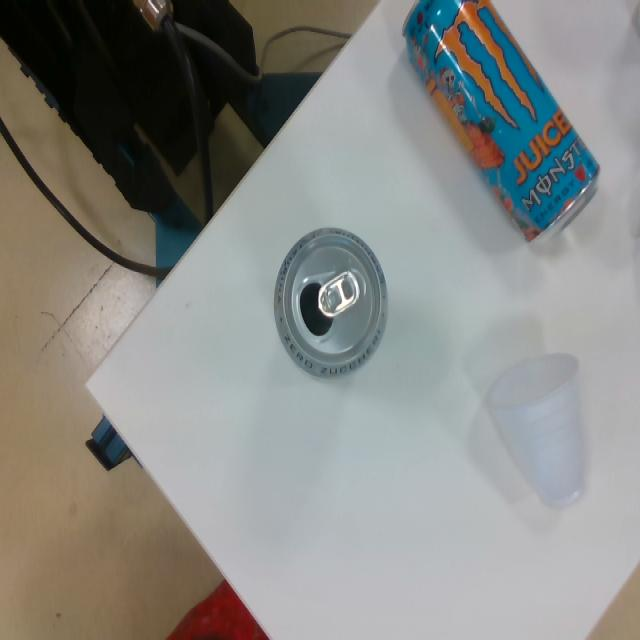aluminum: (397, 0, 606, 256), (273, 222, 389, 383)
plastic: (488, 348, 595, 516)
